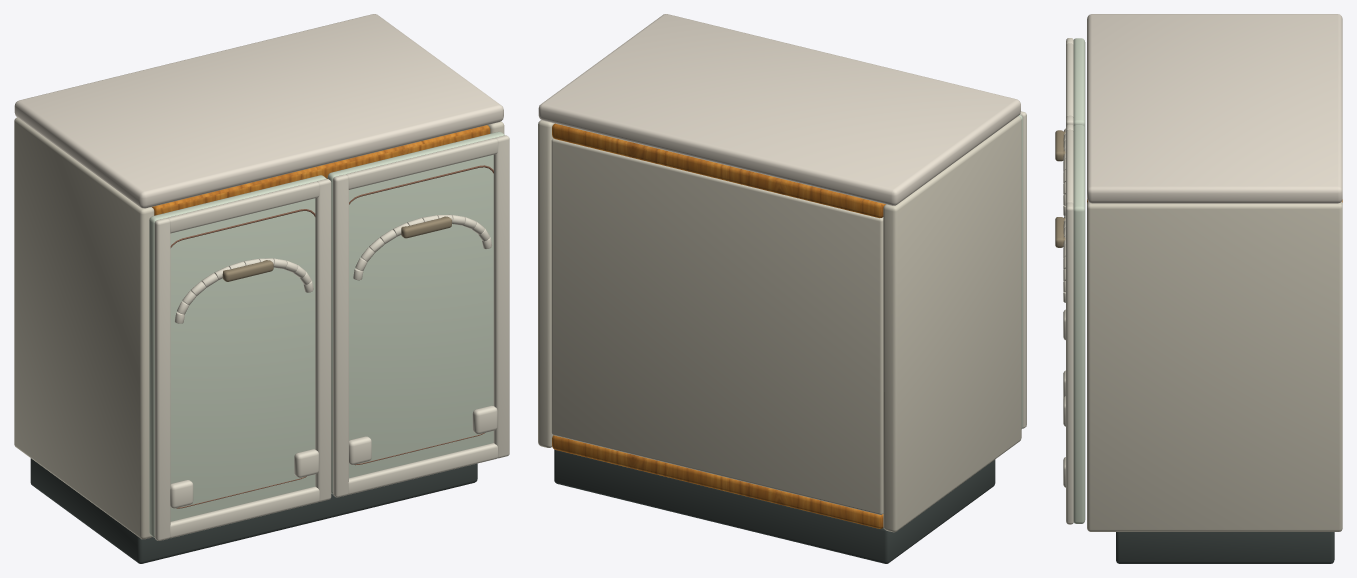
The model's file is arched-base-cabinet.glb.
The picture shows the model from 3 angles, left to right: view 1: azimuth 30°, elevation 25°; view 2: azimuth 150°, elevation 25°; view 3: azimuth 270°, elevation 25°; orthographic projection.
Parts seen in each view (by area): view 1: arched-base-cabinet; view 2: arched-base-cabinet; view 3: arched-base-cabinet.
Boxes of the visible parts, left/top/right/bottom form: arched-base-cabinet: left=14, top=14, right=509, bottom=563; arched-base-cabinet: left=538, top=14, right=1026, bottom=563; arched-base-cabinet: left=1055, top=14, right=1342, bottom=563.
Bounding box in the file's own units: 0.9 × 0.91 × 0.62.
Materials: 8 (1 with a texture image).
